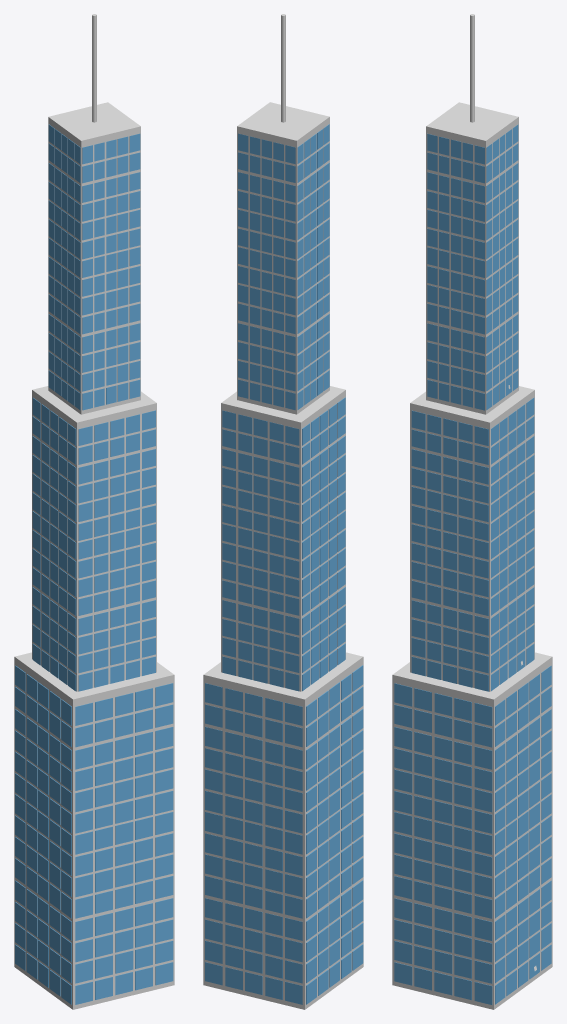
File: skyscraper_tall.fbx
3 renders of one model, left to right at view 1: azimuth 30°, elevation 25°; view 2: azimuth 150°, elevation 25°; view 3: azimuth 330°, elevation 25°, orthographic.
Visible parts, largest first — view 1: Cube.282, Cube.283, Cube.846, Cylinder; view 2: Cube.282, Cube.283, Cube.846, Cylinder; view 3: Cube.282, Cube.283, Cube.846, Cylinder.
Boxes of the visible parts, bbox=[...] form: Cube.282: bbox=[14, 652, 174, 1009]; Cube.283: bbox=[32, 386, 156, 691]; Cube.846: bbox=[48, 102, 140, 414]; Cylinder: bbox=[92, 14, 96, 122]; Cube.282: bbox=[203, 652, 363, 1009]; Cube.283: bbox=[221, 386, 345, 691]; Cube.846: bbox=[237, 102, 329, 414]; Cylinder: bbox=[281, 14, 285, 122]; Cube.282: bbox=[392, 652, 552, 1009]; Cube.283: bbox=[410, 386, 534, 691]; Cube.846: bbox=[426, 102, 518, 414]; Cylinder: bbox=[470, 14, 474, 122].
Size of the model in its own units: 5189 by 45330 by 5032.
